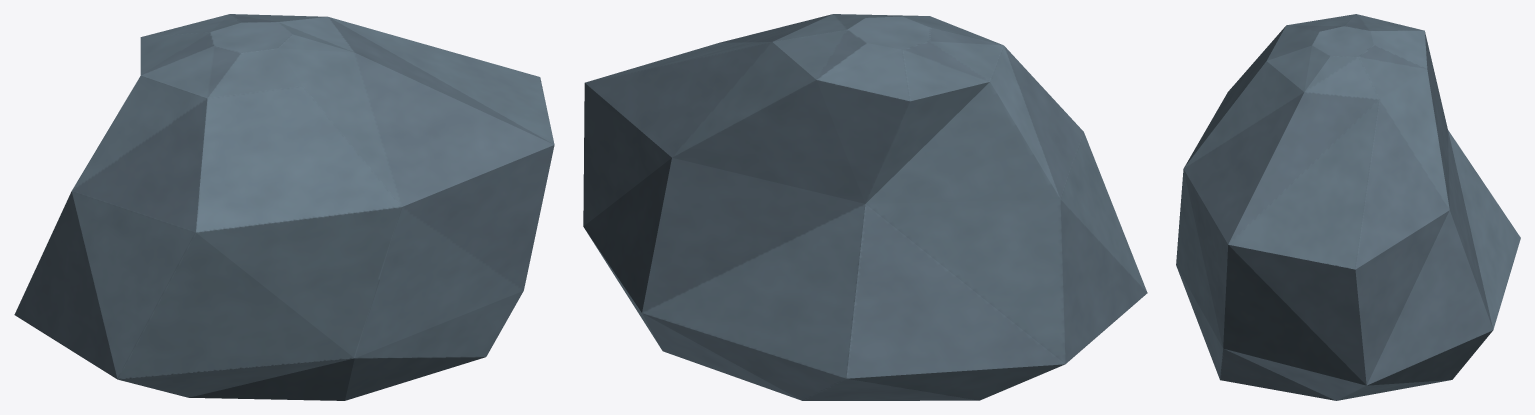
Rendered from TX_N01_Rock_Boulder.fbx.
3 renders of one model, left to right at view 1: azimuth 30°, elevation 25°; view 2: azimuth 150°, elevation 25°; view 3: azimuth 270°, elevation 25°, orthographic. The views are drawn at different scales.
Parts seen in each view (by area): view 1: TX_N01_Rock_Boulder; view 2: TX_N01_Rock_Boulder; view 3: TX_N01_Rock_Boulder.
Boxes of the visible parts, <box> form: TX_N01_Rock_Boulder: <box>14,14,554,400</box>; TX_N01_Rock_Boulder: <box>583,14,1147,400</box>; TX_N01_Rock_Boulder: <box>1176,14,1520,400</box>.
Bounding box in the file's own units: 1.95 × 1.15 × 1.34.
1 material, 1 textured.
